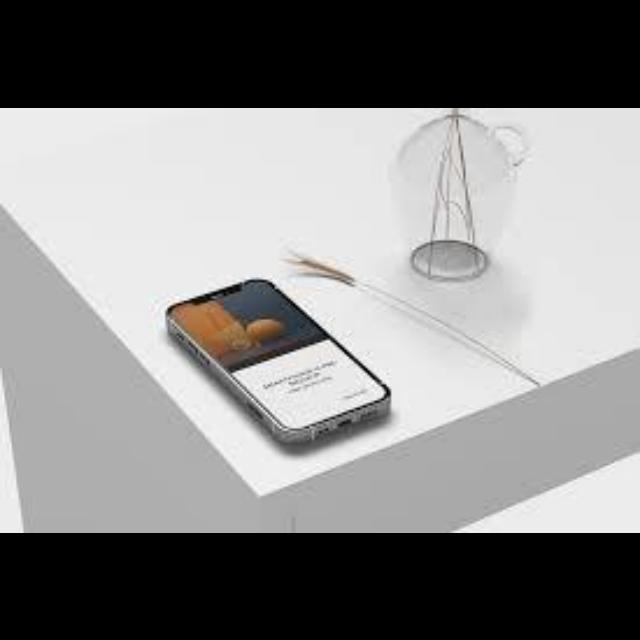phone: (151, 247, 403, 456)
